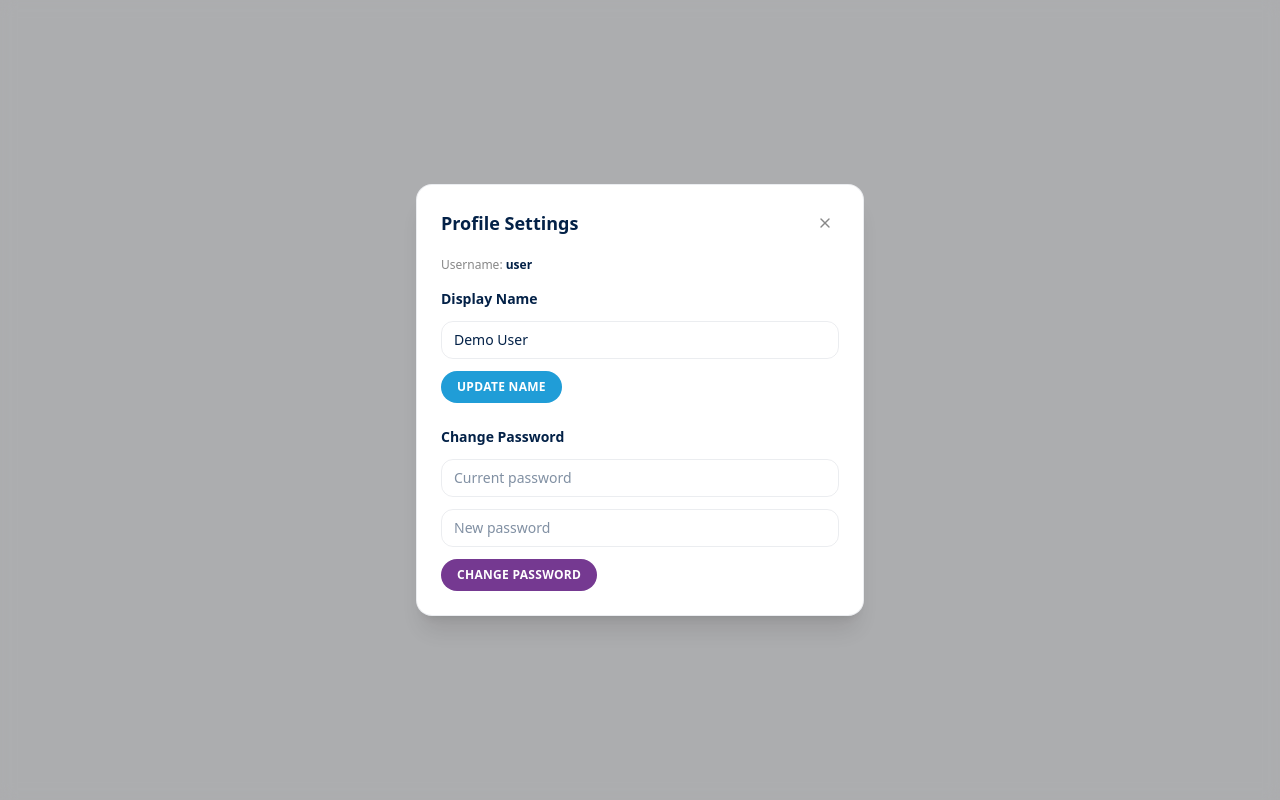
Scenario: ProfileSettings › updates display name
Replace the text in the field named "Display name" with "New Name": (640, 340) [441,321,839,359]
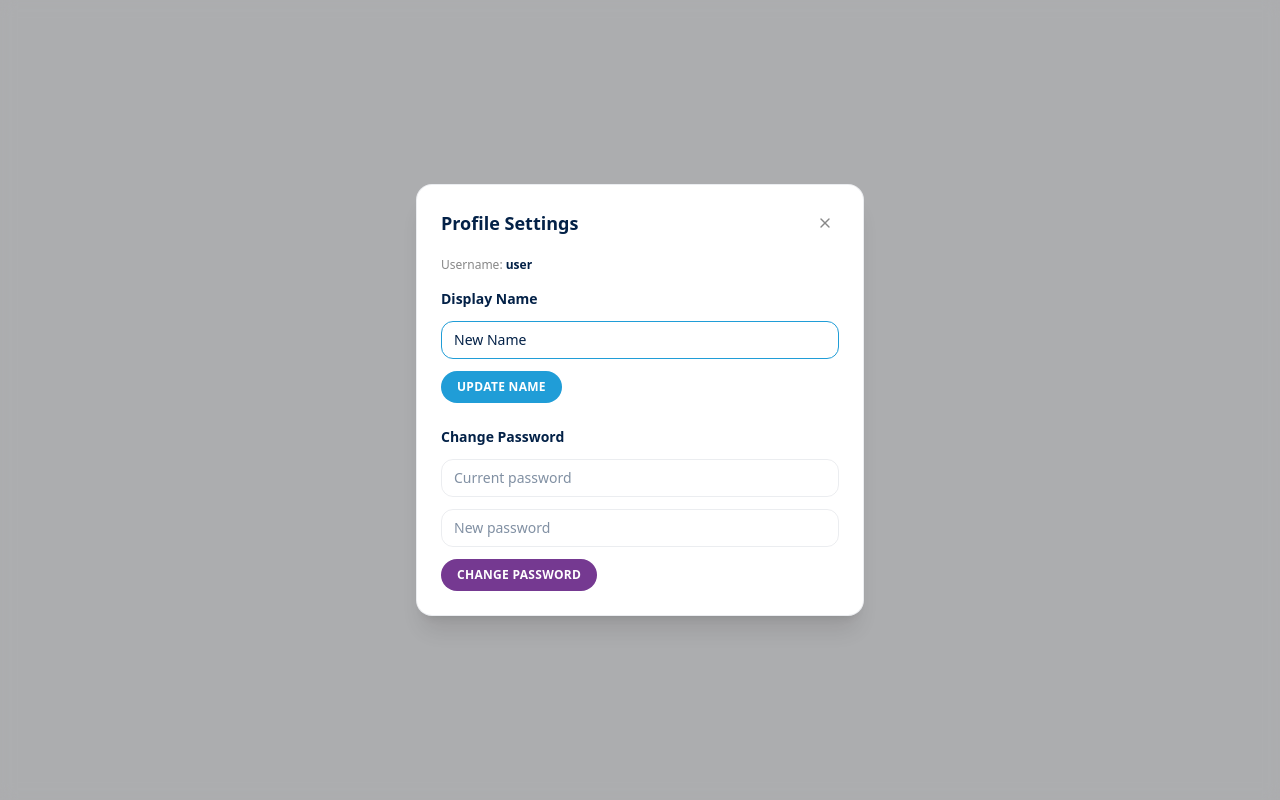
Click the button "Update Name": (501, 387) [441,371,562,403]
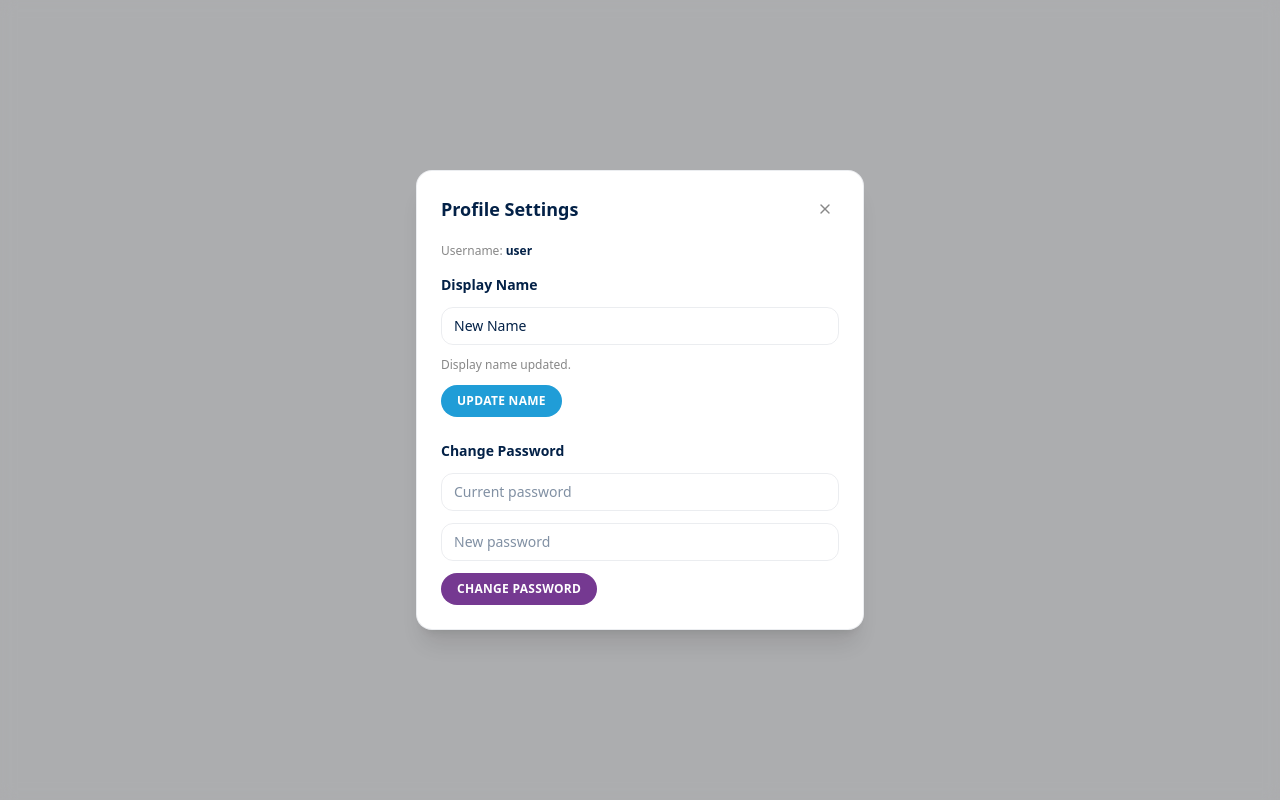
Expected: the text "Display name updated." is shown, [441,356,571,373]
